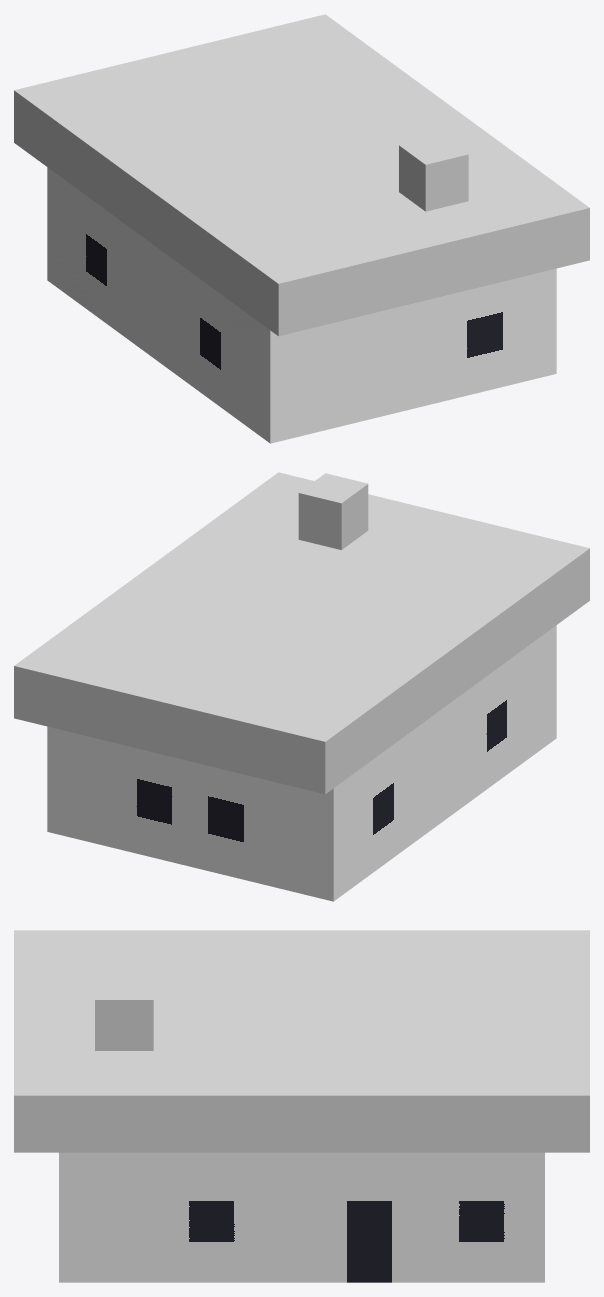
Rendered from unipoldom0.fbx.
3 views of the same model, one above another, from view 1: azimuth 30°, elevation 25°; view 2: azimuth 150°, elevation 25°; view 3: azimuth 270°, elevation 25° (orthographic). The views are drawn at different scales.
Parts seen in each view (by area): view 1: dach, bryla, komin; view 2: dach, bryla, komin; view 3: dach, bryla, komin.
Part boxes in pixels (bbox=[...]): dach: bbox=[14, 14, 589, 336]; bryla: bbox=[47, 167, 556, 443]; komin: bbox=[399, 134, 468, 211]; dach: bbox=[14, 472, 589, 794]; bryla: bbox=[47, 625, 556, 901]; komin: bbox=[298, 473, 368, 549]; dach: bbox=[14, 930, 589, 1152]; bryla: bbox=[59, 1152, 544, 1282]; komin: bbox=[95, 977, 153, 1050].
Size of the model in its own units: 109 by 75 by 160.
Materials: 1 (1 with a texture image).
